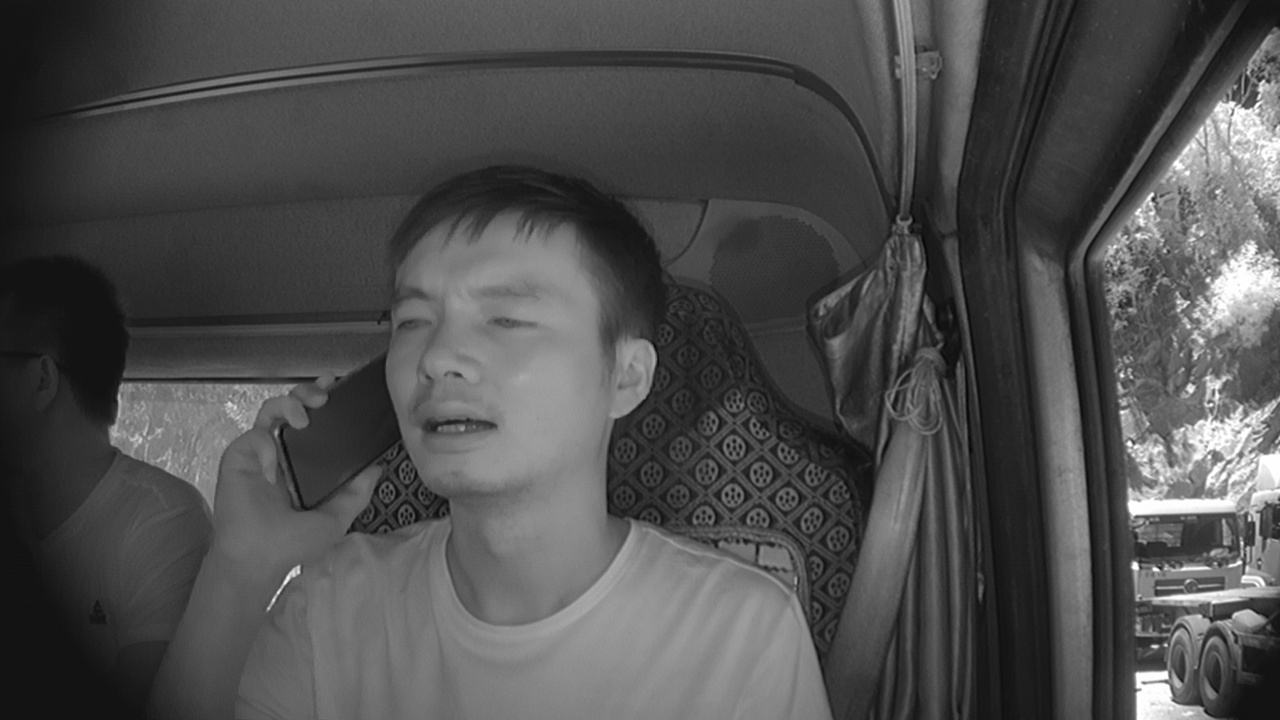hand: (211, 361, 374, 576)
